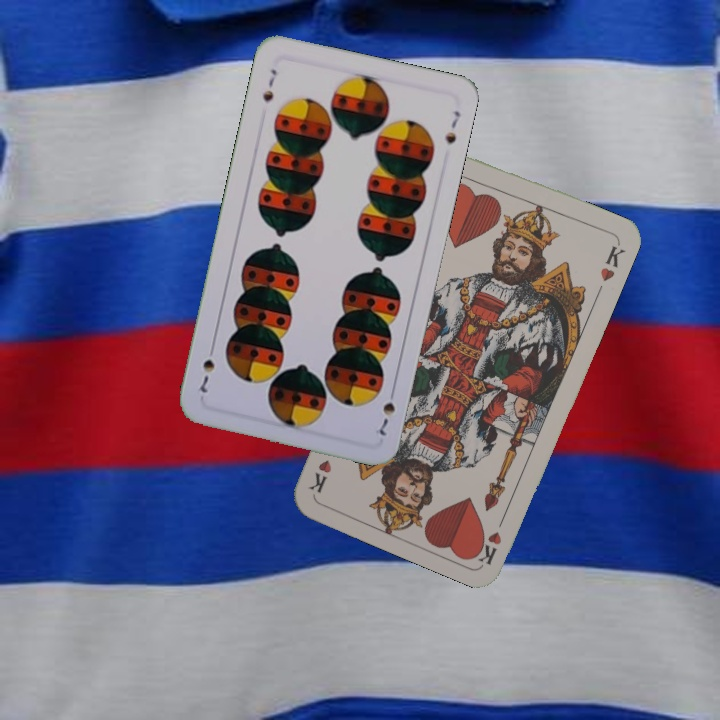HK: (472, 508, 509, 567)
S7: (375, 383, 398, 439), (258, 65, 279, 104)
